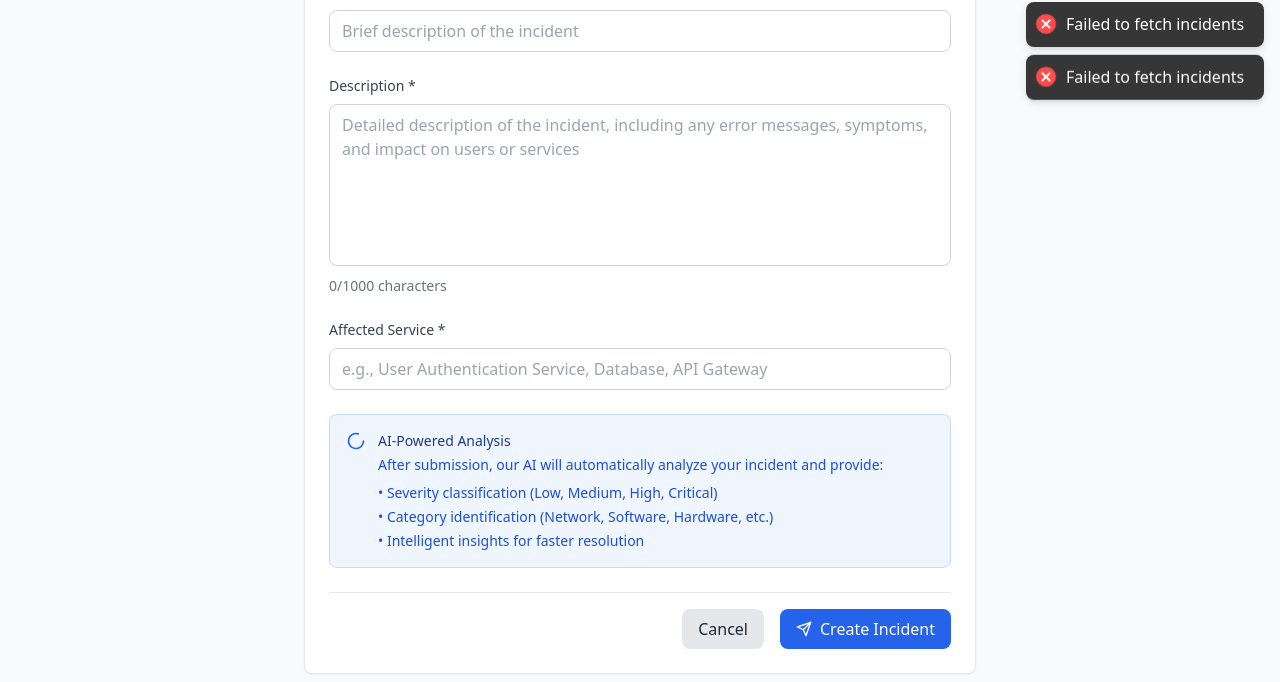
Scenario: Create Incident › should show validation errors for empty fields
The image size is (1280, 682).
(page scrolled)
Click the submit button at (866,629), box [780, 609, 951, 649]
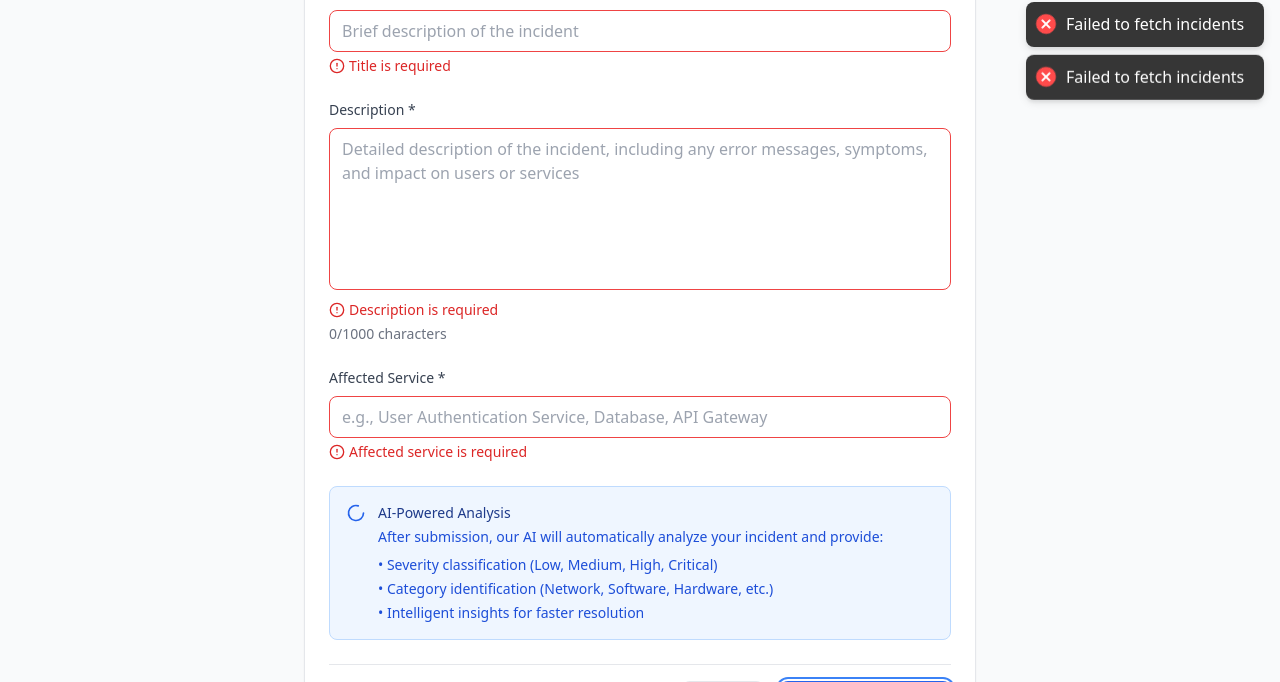
expect the element showing "Title is required" is shown: met, box [329, 56, 451, 75]
expect the element showing "Description is required" is shown: met, box [329, 300, 498, 319]
expect the element showing "Affected service is required" is shown: met, box [329, 442, 527, 461]
